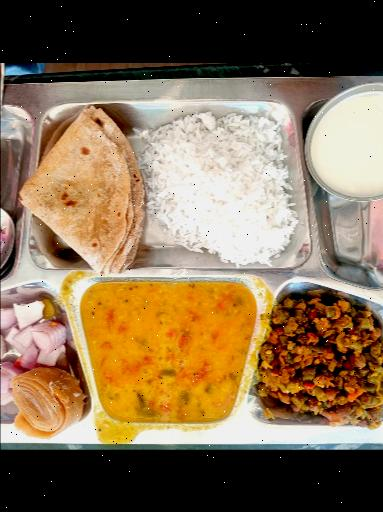Curd: (300, 74, 383, 202)
Dal: (94, 284, 248, 418)
Rice: (145, 109, 288, 266)
Roti: (16, 106, 139, 270)
Salad: (0, 291, 69, 362)
Sweet: (8, 366, 87, 438)
Vegetable: (262, 290, 383, 434)
